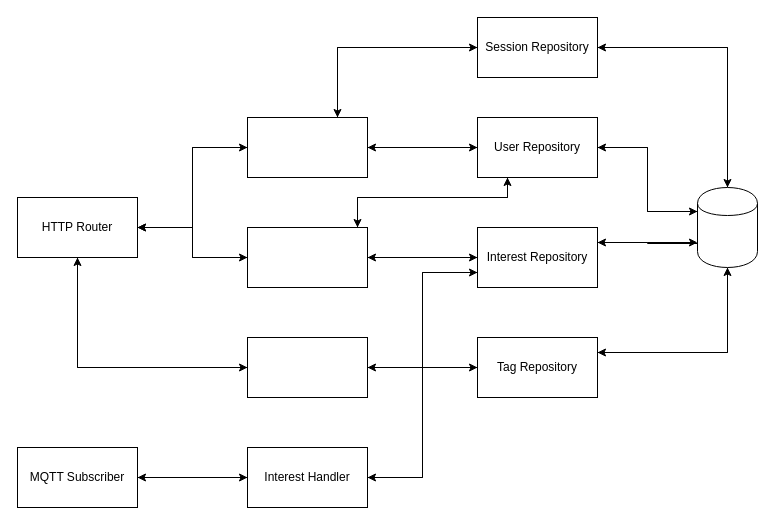
Some shapes in this 775 by 525 pixel diagram are drawn without their labels. The centre of each missing label's shape, as x and y in pixels:
Interest Controller: [307,257]
Tag Controller: [307,367]
User Controller: [307,147]
